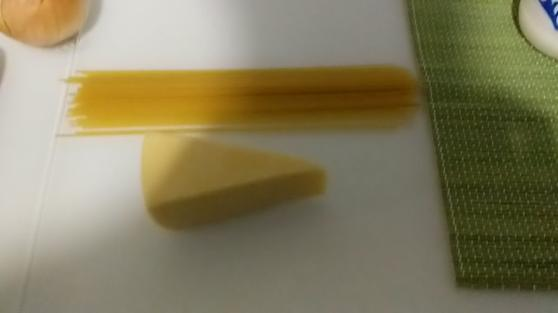cheese: (121, 127, 338, 231)
spaghetti: (60, 61, 434, 142)
